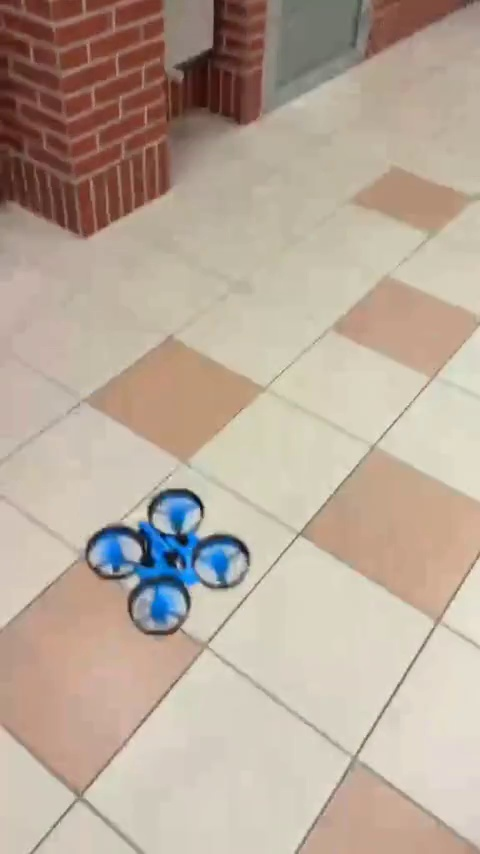drone: (78, 488, 256, 643)
